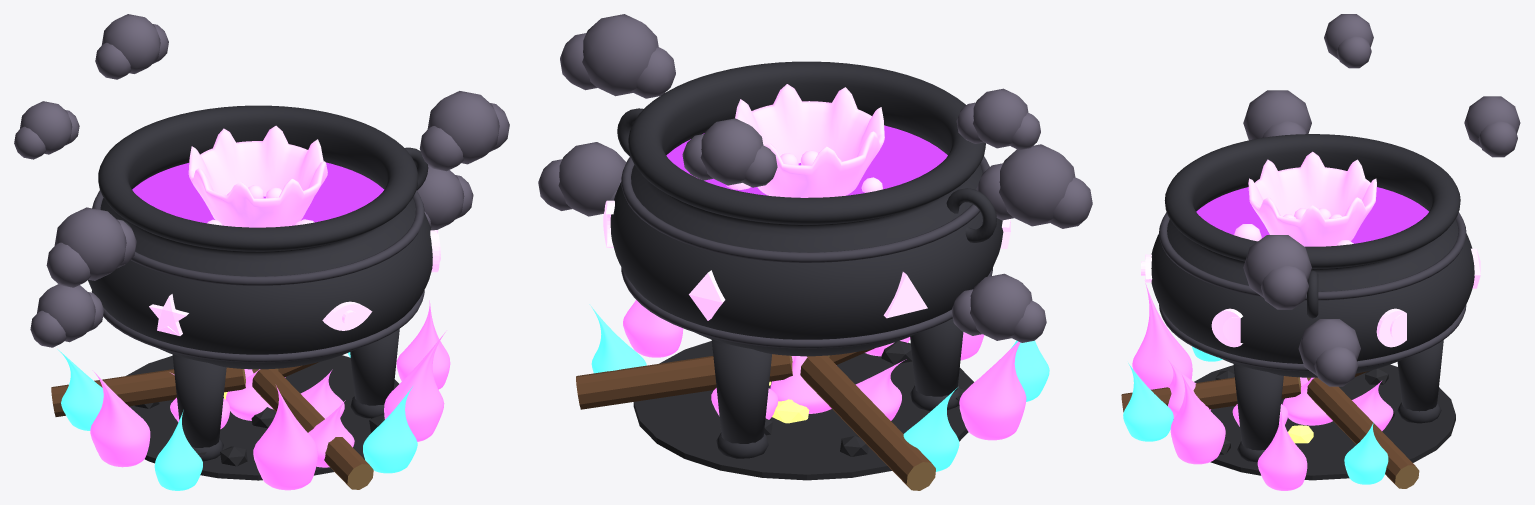
The model's file is Cauldron.fbx.
3 renders of one model, left to right at view 1: azimuth 30°, elevation 25°; view 2: azimuth 150°, elevation 25°; view 3: azimuth 270°, elevation 25°, orthographic. The views are drawn at different scales.
Parts seen in each view (by area): view 1: Cauldron_Body, Splash_Crown, Fire_Coals, Fire_Logs, Liquid_Surface, Smoke_Puff_02, Smoke_Puff_05, Fire_Flame_06, Smoke_Puff_06, Smoke_Puff_01, Fire_Flame_11, Fire_Flame_08 (+10 smaller); view 2: Cauldron_Body, Fire_Coals, Fire_Logs, Splash_Crown, Smoke_Puff_05, Smoke_Puff_02, Smoke_Puff_01, Smoke_Puff_06, Smoke_Puff_04, Fire_Flame_11, Liquid_Surface, Smoke_Puff_03 (+7 smaller); view 3: Cauldron_Body, Fire_Coals, Splash_Crown, Fire_Logs, Liquid_Surface, Smoke_Puff_05, Smoke_Puff_04, Fire_Flame_08, Fire_Flame_06, Smoke_Puff_02, Smoke_Puff_06, Cauldron_Runes (+7 smaller).
Part boxes in pixels (x1,y1,x2,y2): Cauldron_Body: [88, 105, 432, 461]; Splash_Crown: [188, 125, 327, 227]; Fire_Coals: [126, 355, 398, 480]; Fire_Logs: [51, 362, 373, 489]; Liquid_Surface: [132, 162, 383, 225]; Smoke_Puff_02: [46, 207, 136, 287]; Smoke_Puff_05: [419, 91, 509, 171]; Fire_Flame_06: [253, 385, 317, 490]; Smoke_Puff_06: [95, 14, 168, 79]; Smoke_Puff_01: [30, 284, 103, 347]; Fire_Flame_11: [90, 370, 150, 467]; Fire_Flame_08: [384, 330, 446, 441]; Cauldron_Body: [610, 61, 1003, 458]; Fire_Coals: [633, 341, 973, 480]; Fire_Logs: [576, 348, 935, 490]; Splash_Crown: [735, 84, 884, 197]; Smoke_Puff_05: [560, 14, 675, 98]; Smoke_Puff_02: [976, 144, 1092, 228]; Smoke_Puff_01: [951, 273, 1046, 342]; Smoke_Puff_06: [682, 118, 777, 187]; Smoke_Puff_04: [538, 142, 626, 216]; Fire_Flame_11: [959, 341, 1026, 440]; Liquid_Surface: [666, 125, 947, 195]; Smoke_Puff_03: [956, 88, 1040, 150]; Cauldron_Body: [1151, 134, 1474, 462]; Fire_Coals: [1194, 364, 1455, 480]; Splash_Crown: [1248, 151, 1376, 246]; Fire_Logs: [1121, 371, 1419, 488]; Liquid_Surface: [1196, 187, 1428, 243]; Smoke_Puff_05: [1243, 235, 1311, 309]; Smoke_Puff_04: [1298, 319, 1360, 386]; Fire_Flame_08: [1170, 373, 1225, 464]; Fire_Flame_06: [1132, 283, 1192, 389]; Smoke_Puff_02: [1243, 90, 1311, 140]; Smoke_Puff_06: [1464, 96, 1520, 157]; Cauldron_Runes: [1141, 248, 1480, 347].
Bounding box in the file's own units: 3.78 × 2.72 × 3.06.
